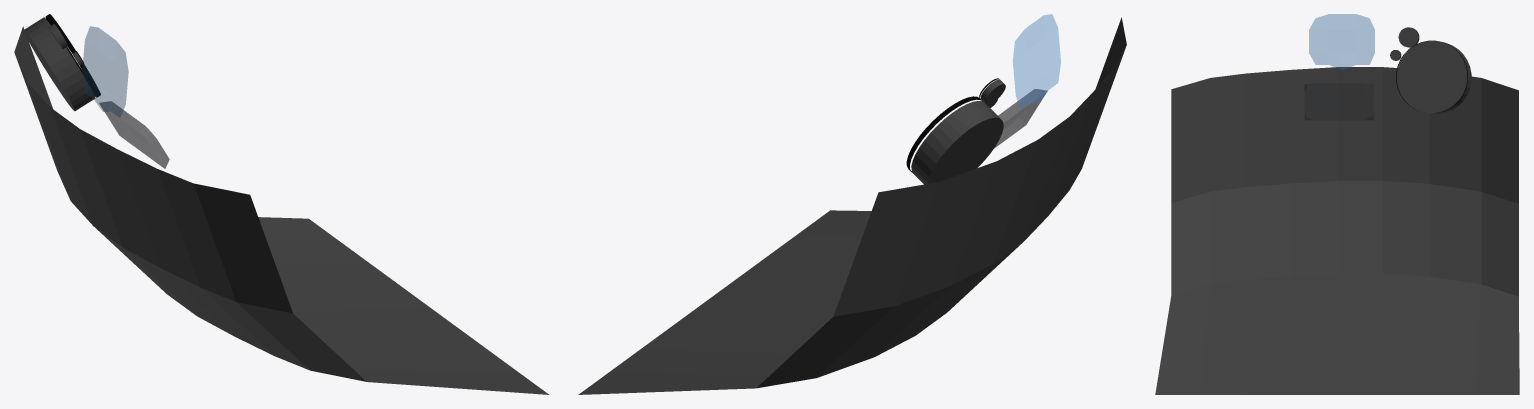
File: cockpit.glb
3 views of the same model, side by side, from view 1: azimuth 30°, elevation 25°; view 2: azimuth 150°, elevation 25°; view 3: azimuth 270°, elevation 25° (orthographic). The views are drawn at different scales.
Parts seen in each view (by area): view 1: Plane, HUD, BiggestCircle, CenterScreen, BiggestRim; view 2: Plane, BiggestCircle, HUD, CenterScreen, BiggestRim; view 3: Plane, BiggestCircle, HUD, CenterScreen, MediumC.
Boxes of the visible parts, bbox=[...] form: Plane: bbox=[14, 26, 548, 394]; HUD: bbox=[82, 26, 128, 117]; BiggestCircle: bbox=[23, 17, 94, 111]; CenterScreen: bbox=[99, 101, 169, 168]; BiggestRim: bbox=[45, 14, 100, 97]; Plane: bbox=[578, 17, 1126, 394]; BiggestCircle: bbox=[911, 101, 1003, 184]; HUD: bbox=[1013, 14, 1060, 109]; CenterScreen: bbox=[994, 89, 1047, 148]; BiggestRim: bbox=[906, 96, 982, 172]; Plane: bbox=[1155, 67, 1519, 394]; BiggestCircle: bbox=[1397, 41, 1471, 114]; HUD: bbox=[1309, 14, 1374, 69]; CenterScreen: bbox=[1304, 83, 1373, 120]; MediumC: bbox=[1399, 27, 1419, 47].
Bounding box in the file's own units: 1.67 × 1.59 × 2.
